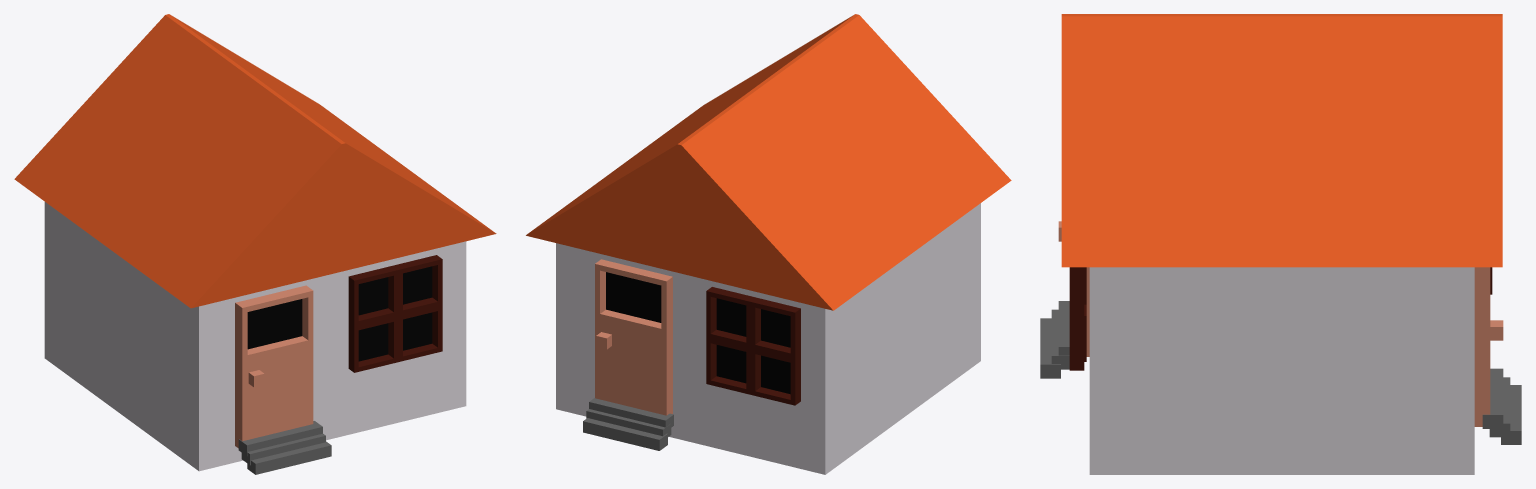
3 views of the same model, side by side, from view 1: azimuth 30°, elevation 25°; view 2: azimuth 150°, elevation 25°; view 3: azimuth 270°, elevation 25° (orthographic). The views are drawn at different scales.
Parts seen in each view (by area): view 1: Cube.001, Cube, Cube.009, Cube.008, Cube.013, Cube.011, Cube.012; view 2: Cube.001, Cube, Cube.003, Cube.002, Cube.007, Cube.005, Cube.006; view 3: Cube.001, Cube, Cube.003, Cube.008, Cube.005, Cube.013, Cube.007, Cube.011, Cube.006, Cube.012.
Boxes of the visible parts, <box> form: Cube.001: <box>14,14,496,308</box>; Cube: <box>44,202,466,471</box>; Cube.009: <box>235,285,313,448</box>; Cube.008: <box>348,255,442,372</box>; Cube.013: <box>247,441,331,474</box>; Cube.011: <box>238,421,322,455</box>; Cube.012: <box>241,433,325,465</box>; Cube.001: <box>526,14,1011,310</box>; Cube: <box>556,203,980,474</box>; Cube.003: <box>595,259,672,415</box>; Cube.002: <box>706,287,800,405</box>; Cube.007: <box>583,418,667,450</box>; Cube.005: <box>589,398,673,427</box>; Cube.006: <box>586,409,671,436</box>; Cube.001: <box>1061,14,1502,267</box>; Cube: <box>1089,267,1474,474</box>; Cube.003: <box>1474,267,1490,426</box>; Cube.008: <box>1069,267,1086,370</box>; Cube.005: <box>1482,368,1503,428</box>; Cube.013: <box>1040,318,1060,378</box>; Cube.007: <box>1501,385,1521,444</box>; Cube.011: <box>1058,301,1069,355</box>; Cube.006: <box>1489,377,1510,437</box>; Cube.012: <box>1051,309,1069,369</box>.
Bounding box in the file's own units: 2.29 × 2.17 × 2.5.
